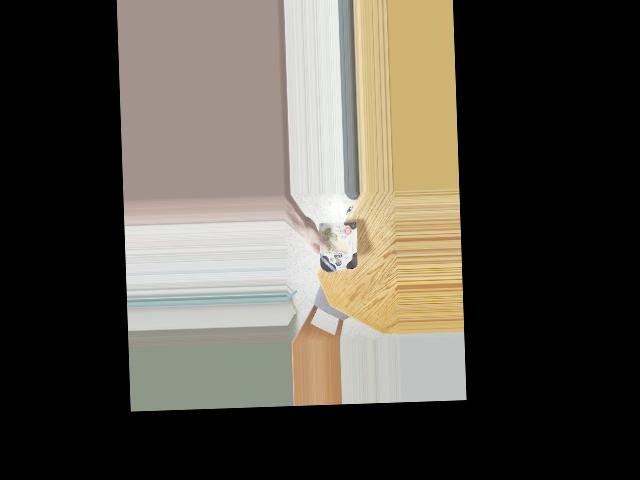cheese: (315, 218, 357, 272)
